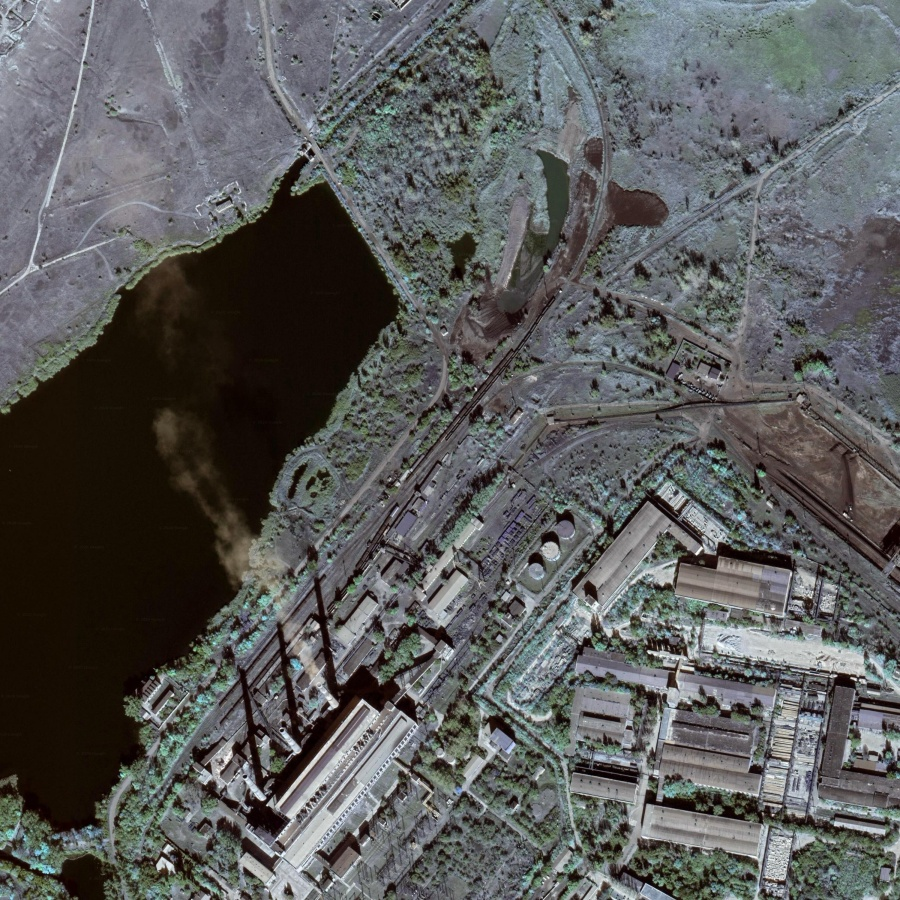PowerPlant: (202, 497, 567, 854)
